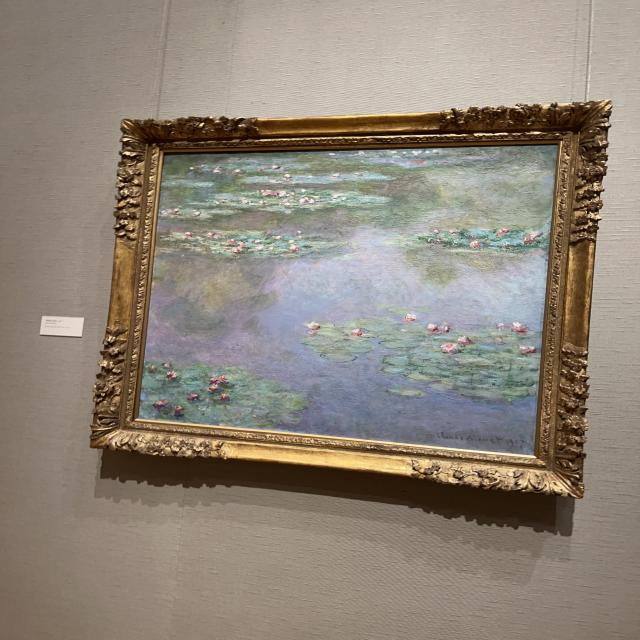lilies: (138, 143, 560, 455)
